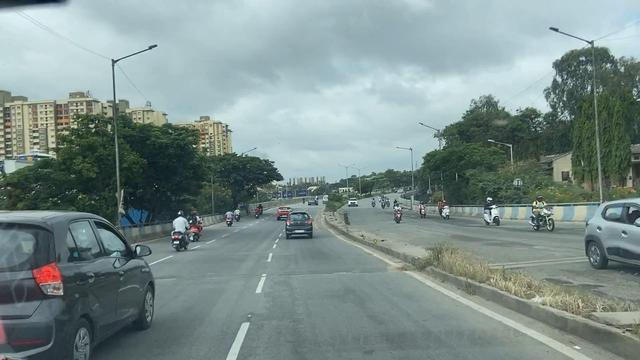LMV: (2, 211, 154, 337), (285, 212, 307, 236), (173, 213, 187, 247)
UnsurfacedRoad: (266, 268, 406, 278)
